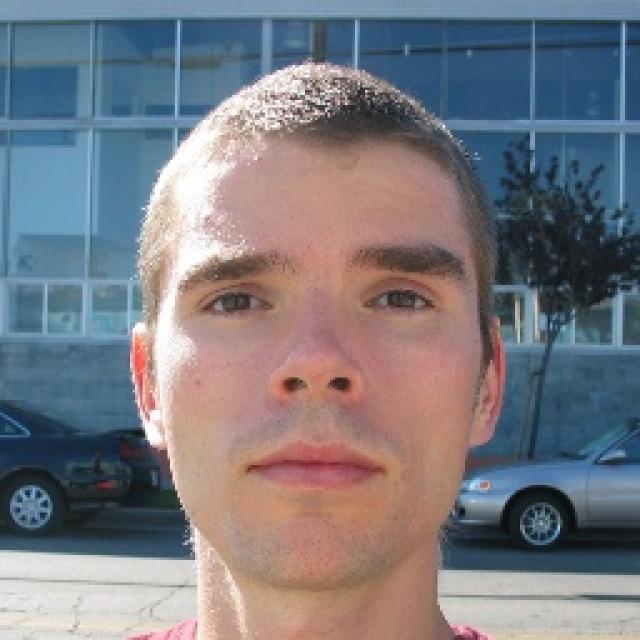earlobe: (468, 410, 498, 446), (143, 413, 170, 452)
eye: (366, 283, 434, 320), (200, 284, 268, 320)
nose: (270, 383, 362, 426)
wholeear: (131, 323, 171, 452), (468, 314, 505, 446)
